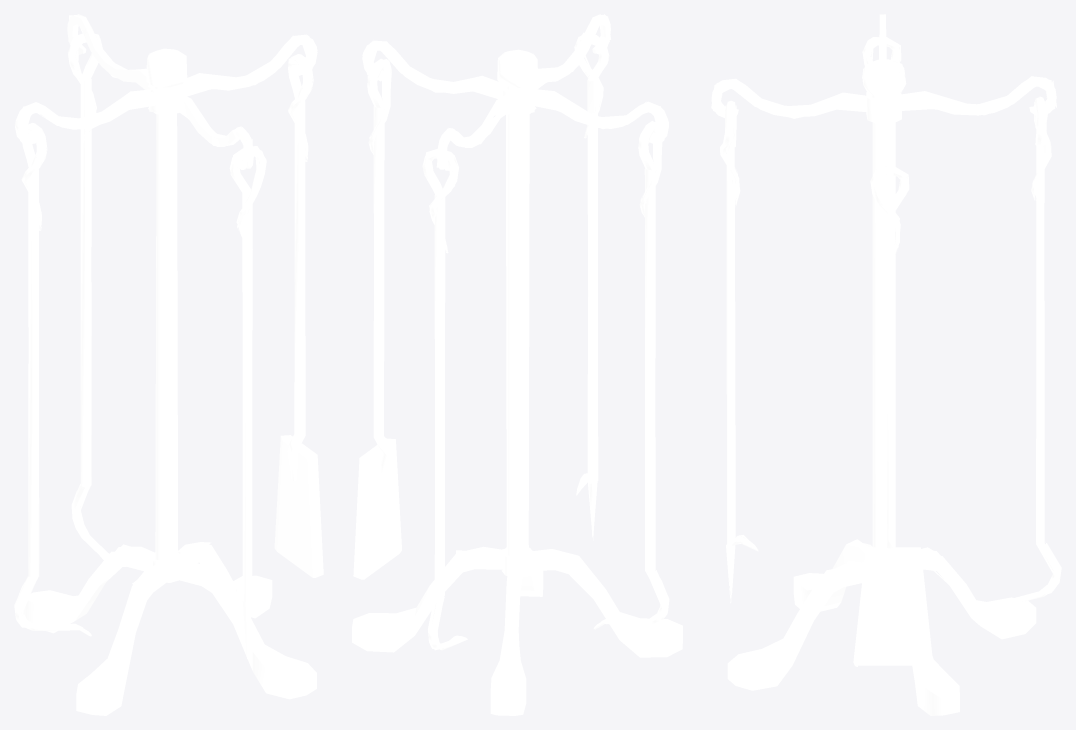
Rendered from fireplace_tools.glb.
3 renders of one model, left to right at view 1: azimuth 30°, elevation 25°; view 2: azimuth 150°, elevation 25°; view 3: azimuth 270°, elevation 25°, orthographic.
Parts seen in each view (by area): view 1: defaultMaterial.001; view 2: defaultMaterial.001; view 3: defaultMaterial.001.
Part boxes in pixels (x1,y1,x2,y2): defaultMaterial.001: (14, 14, 323, 715); defaultMaterial.001: (352, 14, 682, 715); defaultMaterial.001: (711, 14, 1061, 715).
Size of the model in its own units: 1.13 by 2.14 by 1.15.
1 material, 1 textured.
